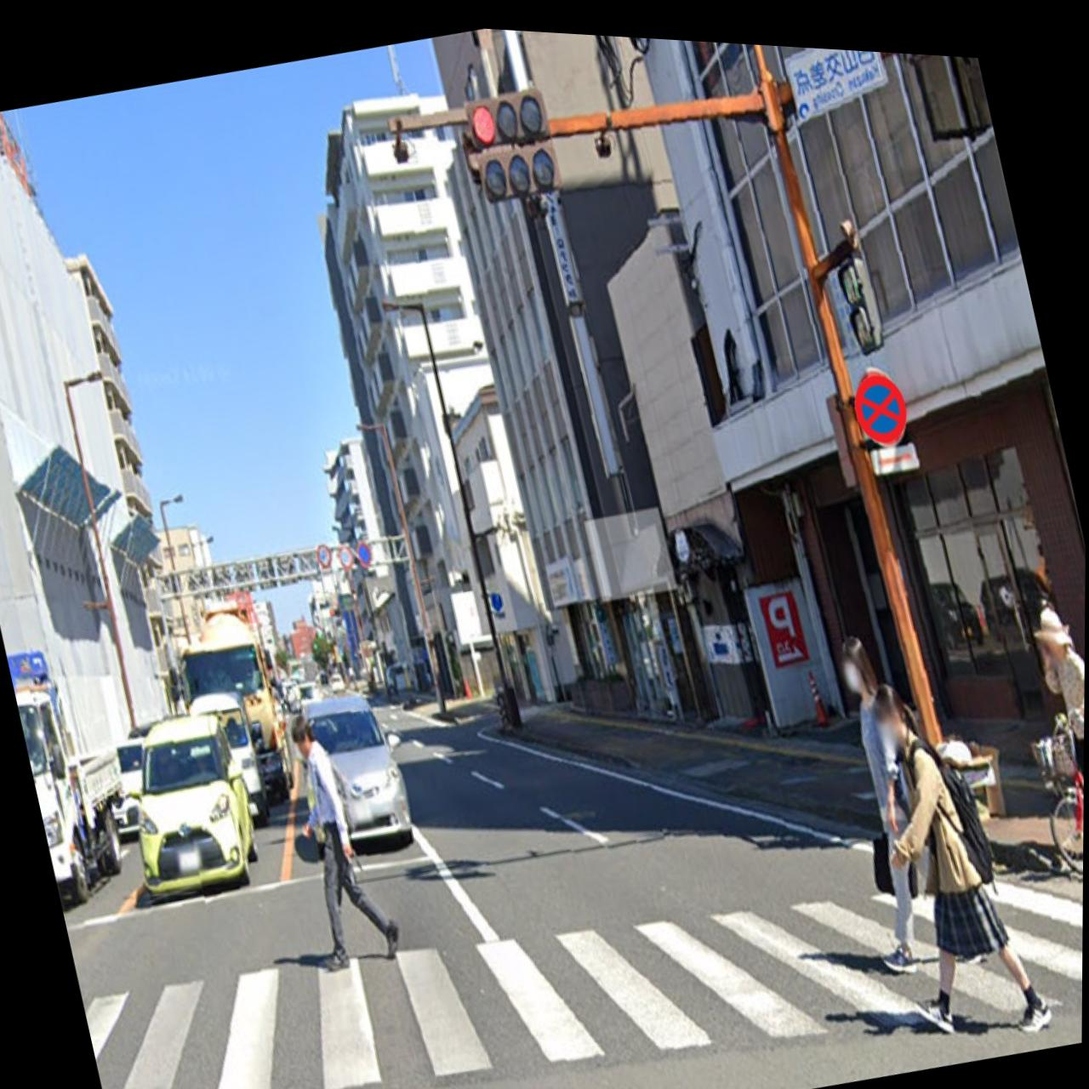stop_sign: (847, 360, 918, 453)
